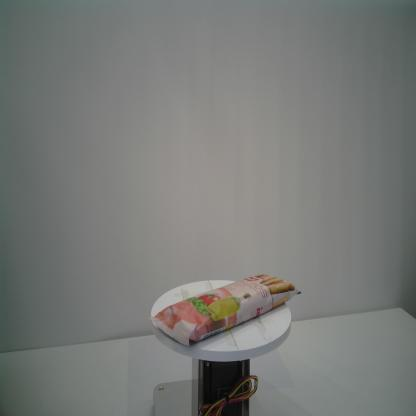Dessert: (148, 271, 303, 348)
